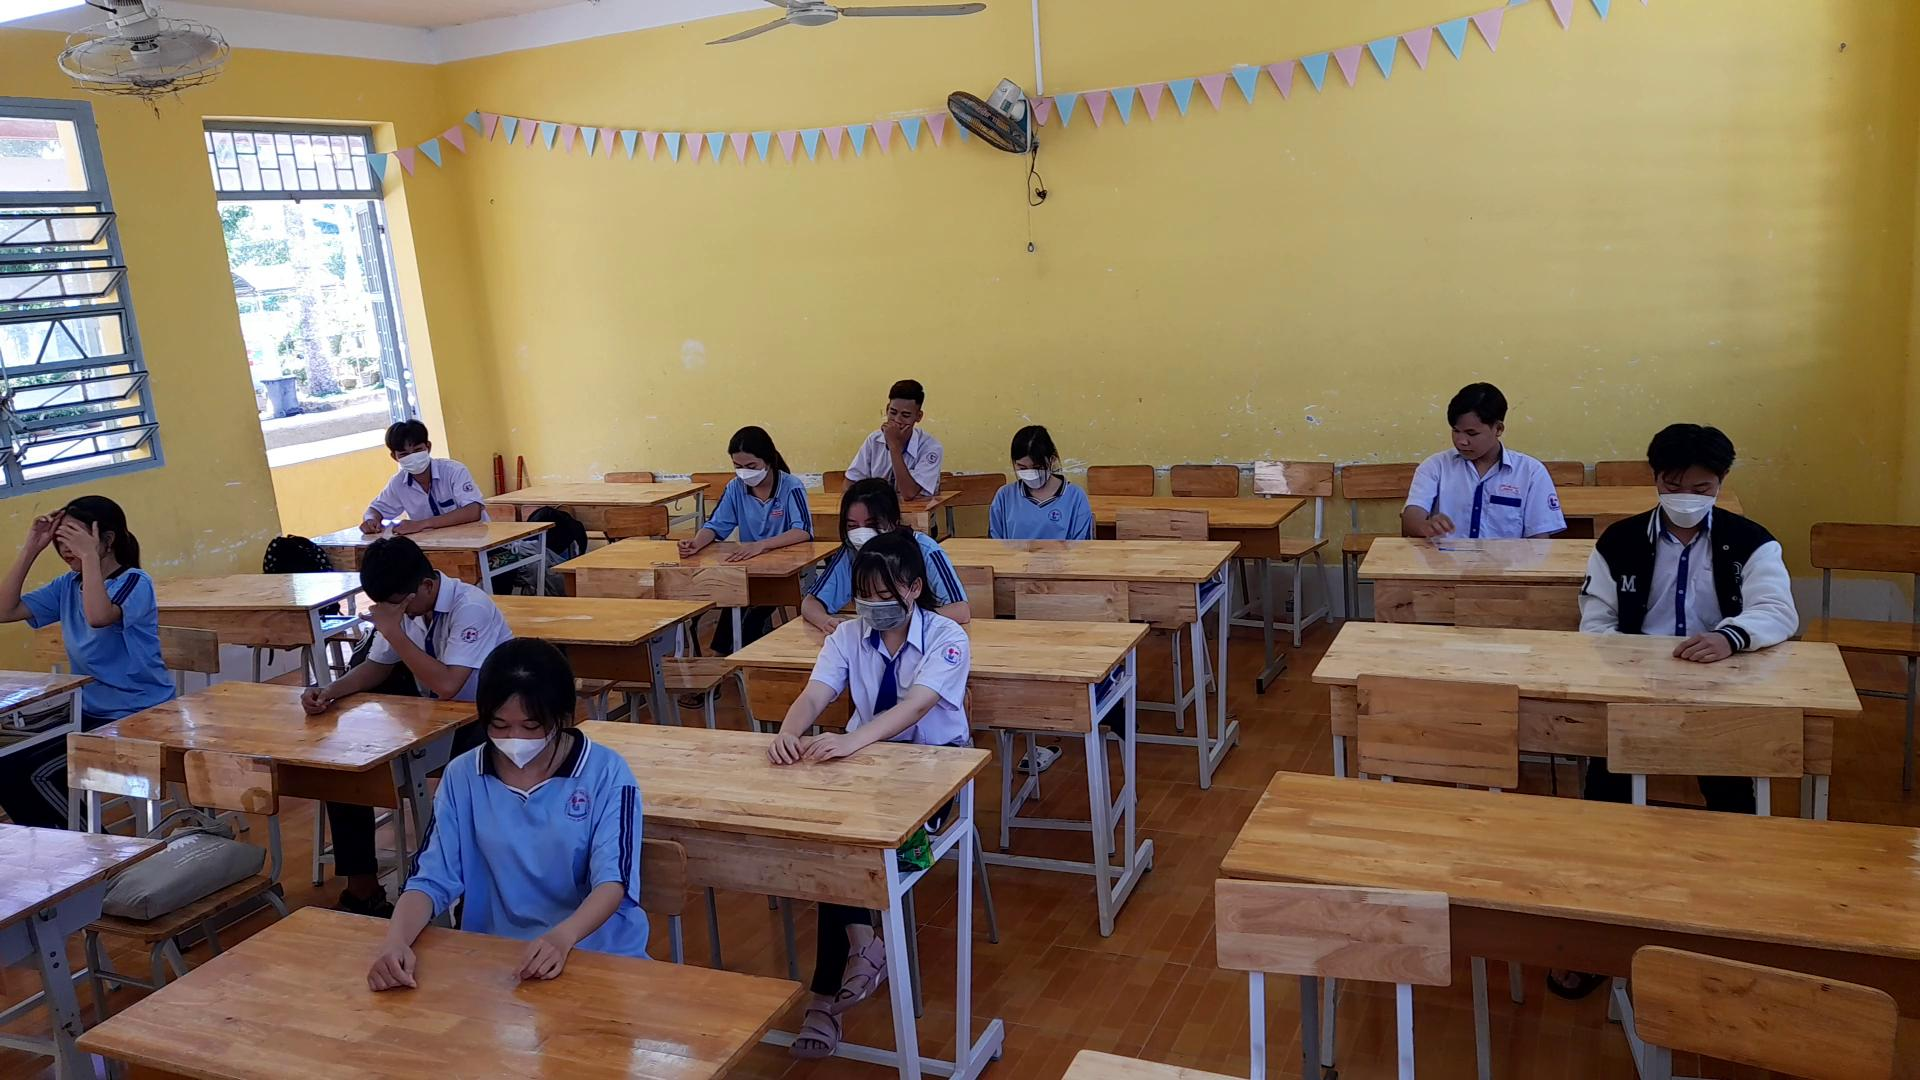Bend Over The Desk: (462, 630, 585, 777), (1635, 407, 1739, 531), (361, 525, 450, 622), (1436, 376, 1514, 469), (996, 419, 1068, 496)
Normal: (767, 513, 976, 762), (675, 419, 818, 559), (353, 411, 488, 543)
Wave: (363, 589, 477, 702), (58, 521, 156, 632), (1573, 520, 1629, 636), (876, 407, 934, 500), (0, 512, 44, 630), (1518, 462, 1563, 549), (980, 480, 1011, 545), (1064, 489, 1095, 554)
